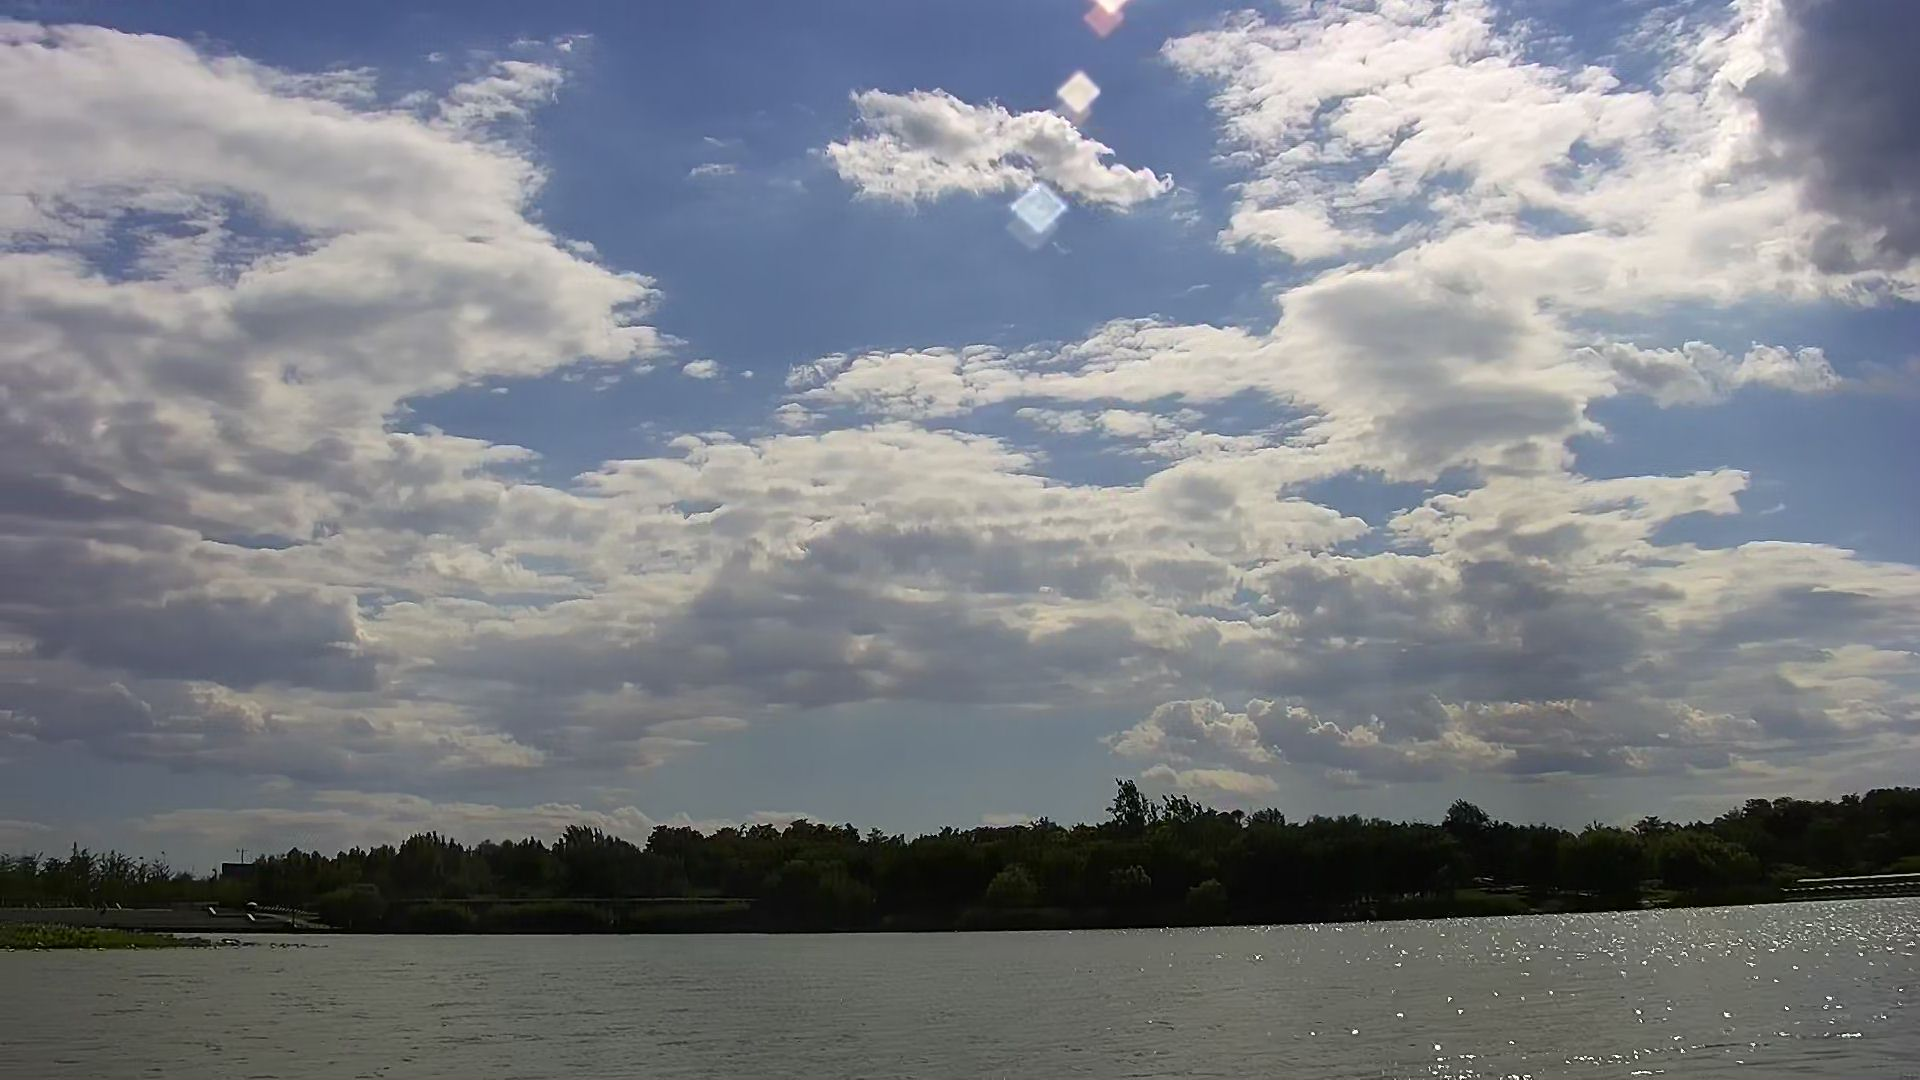grass: (3, 922, 301, 960)
harbor: (1803, 868, 1920, 899)
